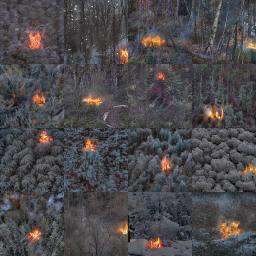Small fire: (196, 93, 244, 130), (26, 120, 70, 155), (153, 139, 183, 187), (140, 19, 173, 58), (17, 26, 58, 55), (22, 87, 62, 112), (112, 209, 141, 243), (81, 125, 105, 159), (77, 88, 111, 108), (151, 66, 175, 90), (236, 33, 256, 58), (118, 41, 134, 67)
